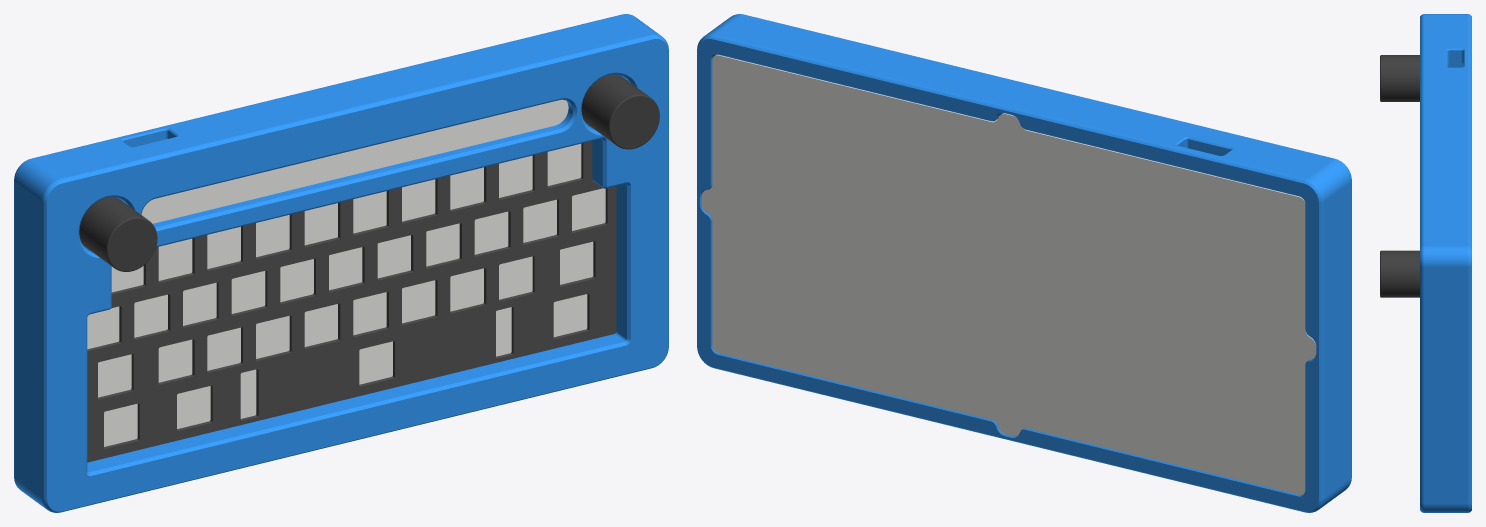
Rendered from Karina.fbx.
3 renders of one model, left to right at view 1: azimuth 30°, elevation 25°; view 2: azimuth 150°, elevation 25°; view 3: azimuth 270°, elevation 25°, orthographic. The views are drawn at different scales.
Visible parts, largest first — view 1: P3D Karina Case Top, Body1 (×4), acrylic window; view 2: Body1, P3D Karina Case Top; view 3: P3D Karina Case Top, Body1 (×2).
Part boxes in pixels (box(x1,y1,x2,y2)): P3D Karina Case Top: box(14, 14, 668, 512); Body1 (×4): box(79, 74, 659, 462); acrylic window: box(141, 99, 568, 223); Body1: box(701, 54, 1316, 494); P3D Karina Case Top: box(697, 14, 1351, 512); P3D Karina Case Top: box(1420, 14, 1471, 512); Body1 (×2): box(1380, 55, 1419, 297).
Size of the model in its own units: 245 by 125 by 39.
